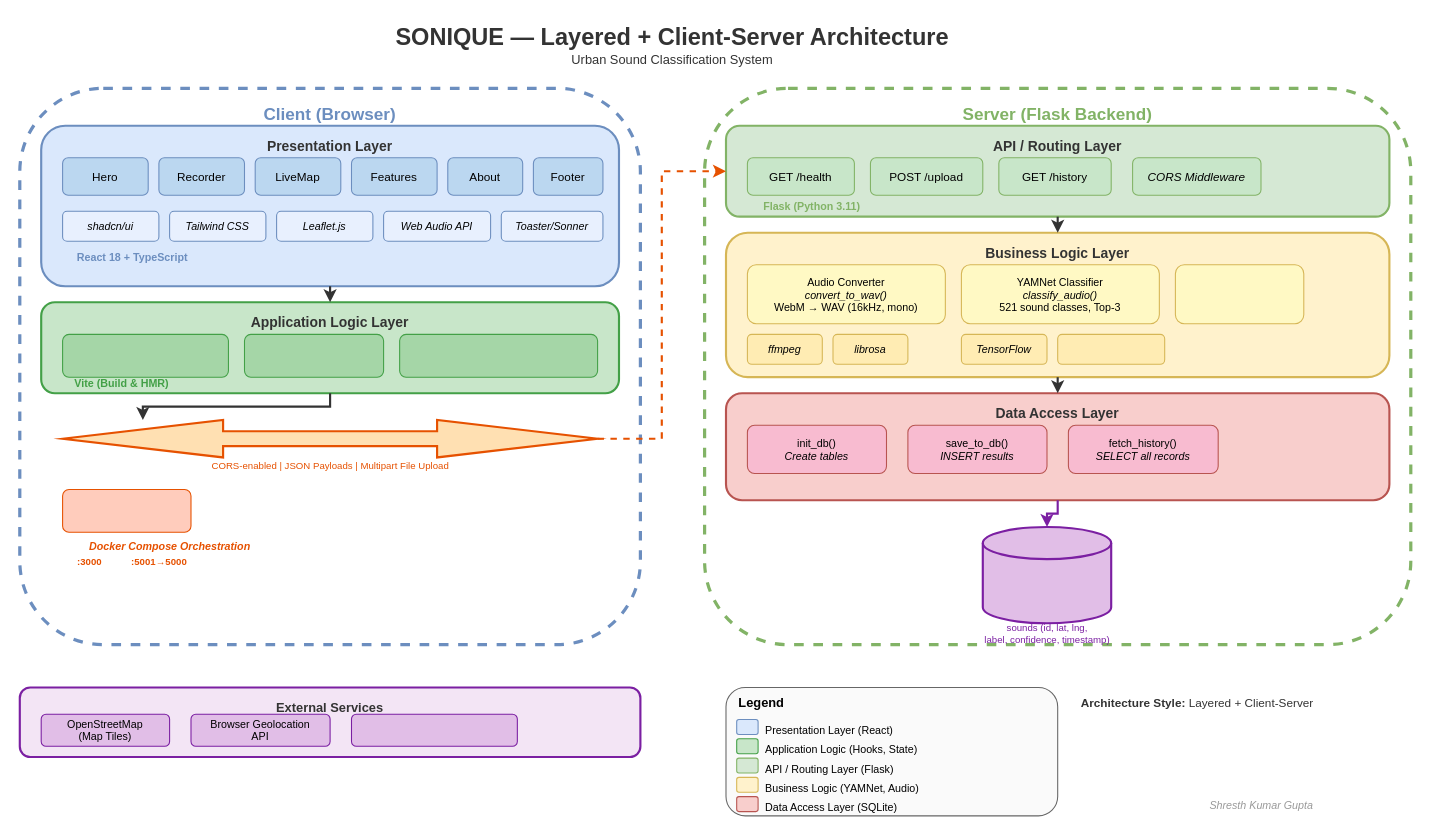
Image size: 1431x835. Some labels were removed from this diagram. The shapes that lost their labels are listed below. From the top down, each one's centre as x and y in pixels, then its label:
At (x=1239, y=294): "Input Validation parse_float()".
At (x=145, y=355): "Custom Hooks (use-mobile, use-toast)".
At (x=313, y=355): "React Query (Server State)".
At (x=498, y=355): "API Client (fetch → /upload, /history)".
At (x=1111, y=348): "TensorFlow Hub".
At (x=329, y=438): "HTTP / REST API".
At (x=126, y=510): "Nginx Reverse Proxy".
At (x=1046, y=574): "SQLite sounds.db".
At (x=433, y=729): "TensorFlow Hub (YAMNet model download)".
